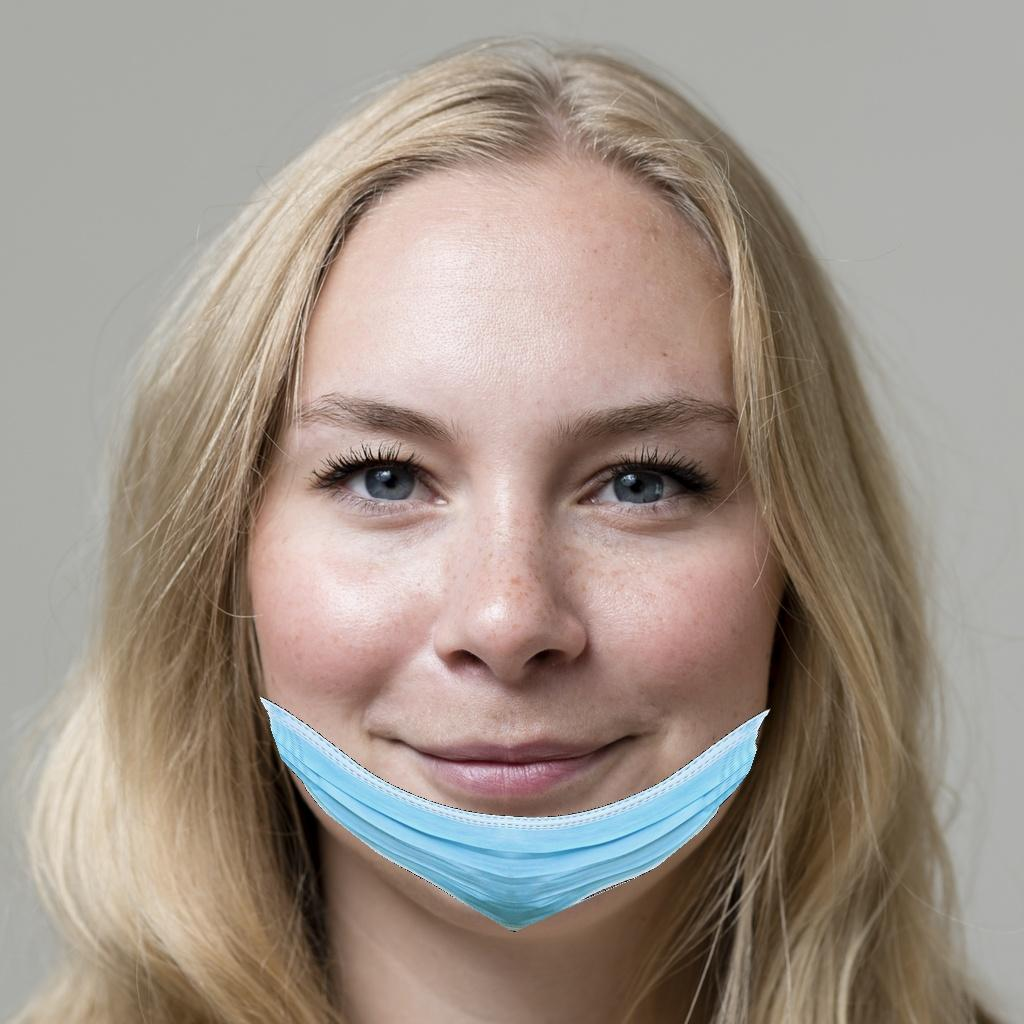Máscara Incorreta: (255, 249, 773, 917)
